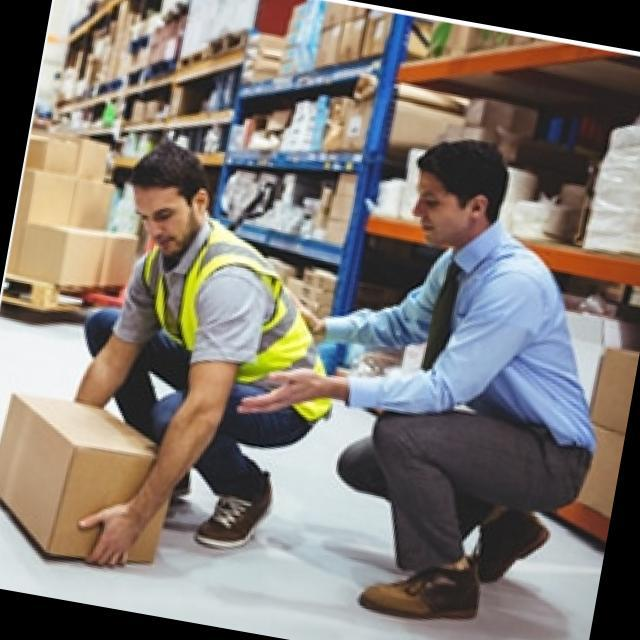vest: (117, 204, 364, 427)
